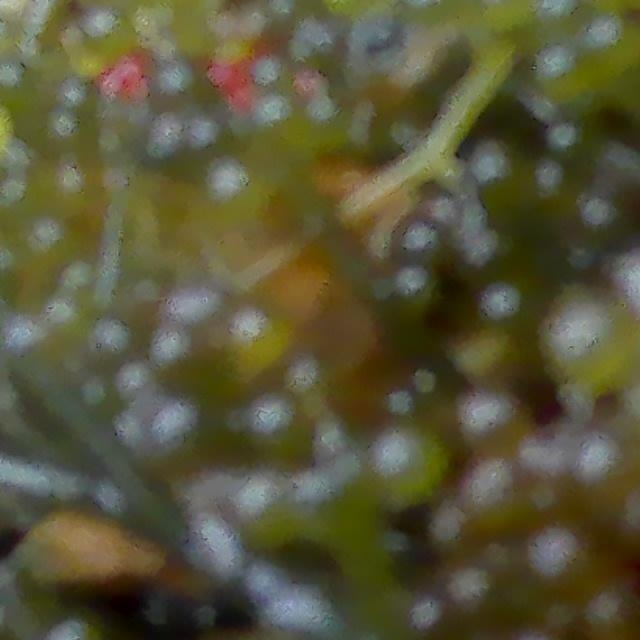SeaGrape: (455, 393, 526, 455), (571, 434, 631, 490), (522, 528, 587, 579), (466, 320, 515, 383), (429, 507, 483, 564), (517, 430, 561, 491), (587, 593, 640, 640), (438, 568, 498, 605), (464, 456, 503, 501)
